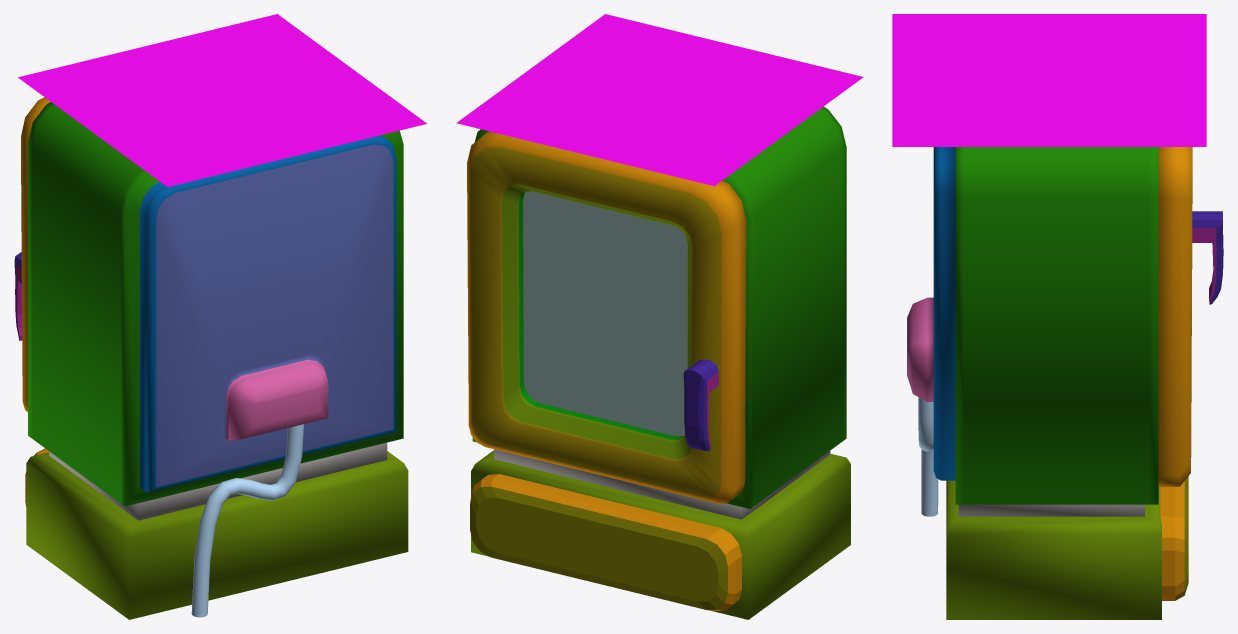
File: SausageProvider.fbx
The picture shows the model from 3 angles, left to right: view 1: azimuth 30°, elevation 25°; view 2: azimuth 150°, elevation 25°; view 3: azimuth 270°, elevation 25°; orthographic projection. The views are drawn at different scales.
Parts seen in each view (by area): view 1: Body.001, Icon, Wire, Divider, Door; view 2: Door, Body.001, Icon, Divider; view 3: Body.001, Icon, Door, Divider, Wire.
Part boxes in pixels (left/top/right/bottom): Body.001: left=25, top=102, right=408, bottom=619; Icon: left=18, top=14, right=426, bottom=186; Wire: left=191, top=424, right=303, bottom=617; Divider: left=49, top=442, right=387, bottom=520; Door: left=14, top=97, right=50, bottom=411; Door: left=467, top=131, right=746, bottom=503; Body.001: left=470, top=106, right=850, bottom=619; Icon: left=456, top=14, right=863, bottom=186; Divider: left=494, top=449, right=830, bottom=519; Body.001: left=907, top=147, right=1188, bottom=619; Icon: left=892, top=14, right=1206, bottom=146; Door: left=1158, top=147, right=1223, bottom=486; Divider: left=958, top=504, right=1144, bottom=516; Wire: left=918, top=397, right=938, bottom=516.
Bounding box in the file's own units: 79.47 × 123 × 77.96.
